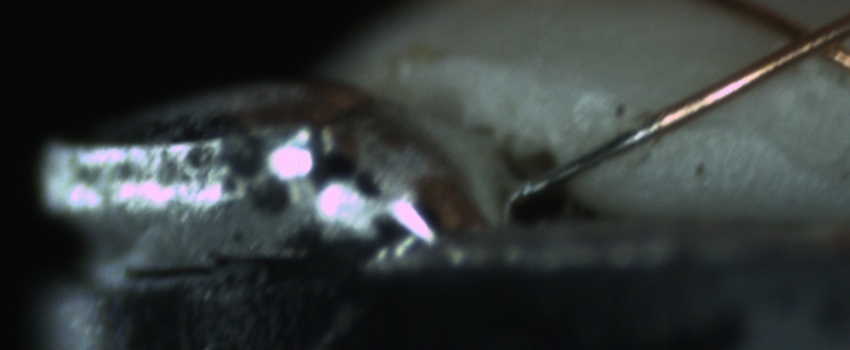CL: (757, 7, 849, 75)
DL: (652, 98, 751, 157)
TS: (520, 119, 658, 195)
TTCW: (495, 73, 735, 213)
